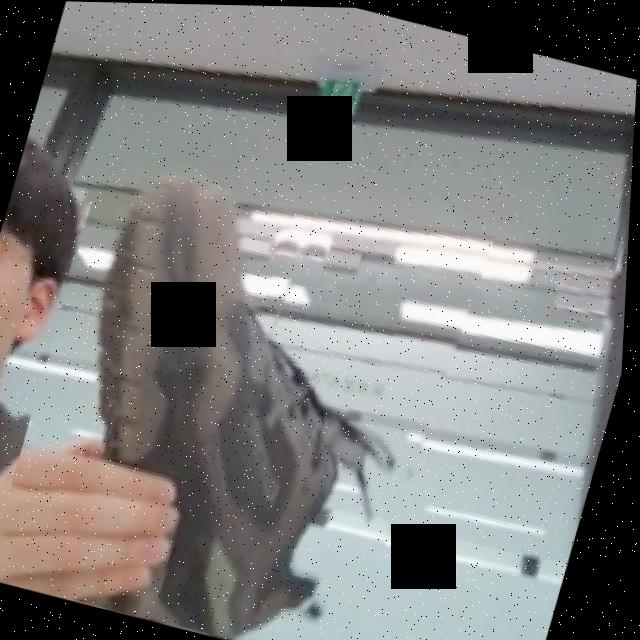shoe: (0, 118, 507, 640)
